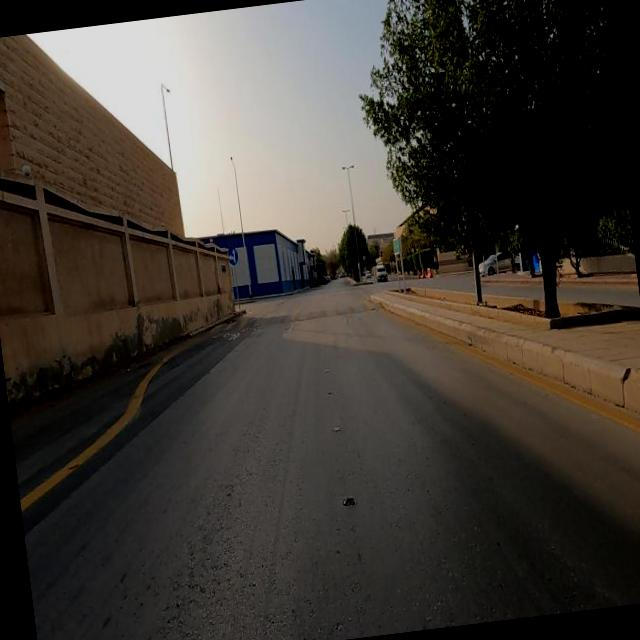debris: (370, 212, 420, 278)
